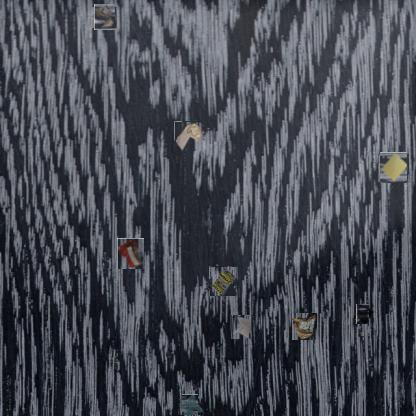dirty: (379, 153, 408, 183), (209, 266, 237, 296), (174, 121, 202, 151), (117, 238, 144, 269), (291, 312, 317, 340), (93, 6, 116, 29), (232, 315, 252, 339)
liquid: (180, 396, 200, 416), (355, 306, 371, 323)
